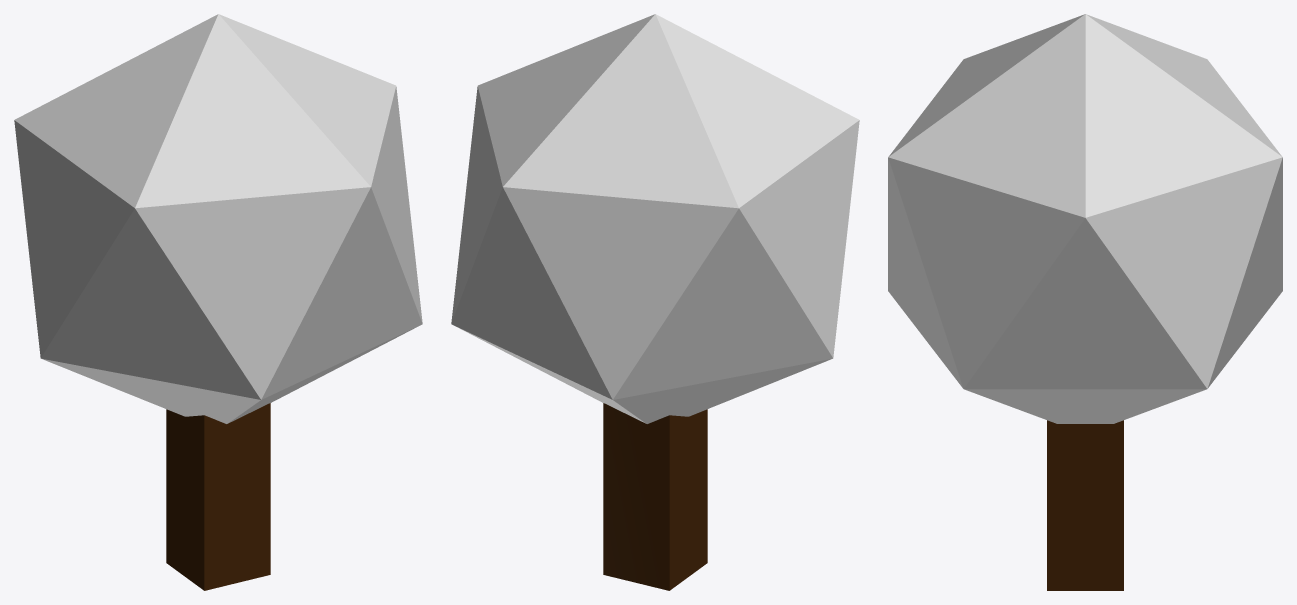
The model's file is shiroi_tree.dae.
The picture shows the model from 3 angles, left to right: view 1: azimuth 30°, elevation 25°; view 2: azimuth 150°, elevation 25°; view 3: azimuth 270°, elevation 25°; orthographic projection.
Visible parts, largest first — view 1: Icosphere, Cube; view 2: Icosphere, Cube; view 3: Icosphere, Cube.
Part boxes in pixels (box(x1,y1,x2,y2)): Icosphere: box(14, 14, 422, 423); Cube: box(166, 403, 270, 590); Icosphere: box(451, 14, 859, 423); Cube: box(603, 403, 707, 590); Icosphere: box(888, 14, 1282, 423); Cube: box(1047, 420, 1123, 590).
Bounding box in the file's own units: 42.93 × 40.83 × 64.
